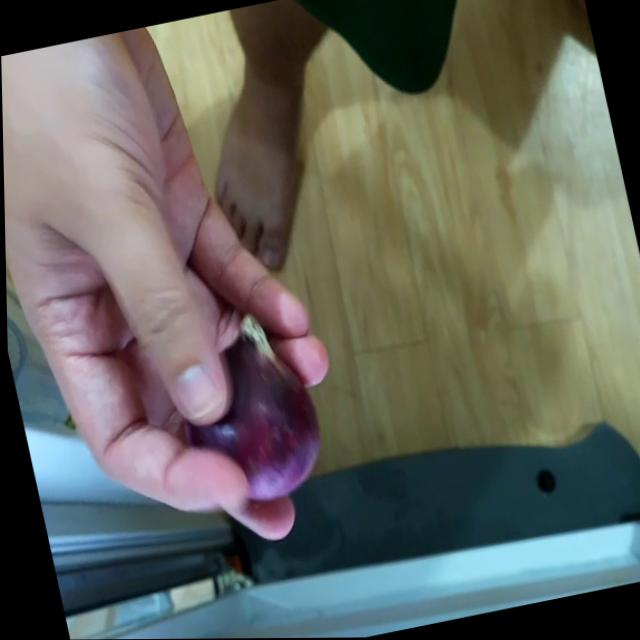onion: (174, 313, 326, 508)
